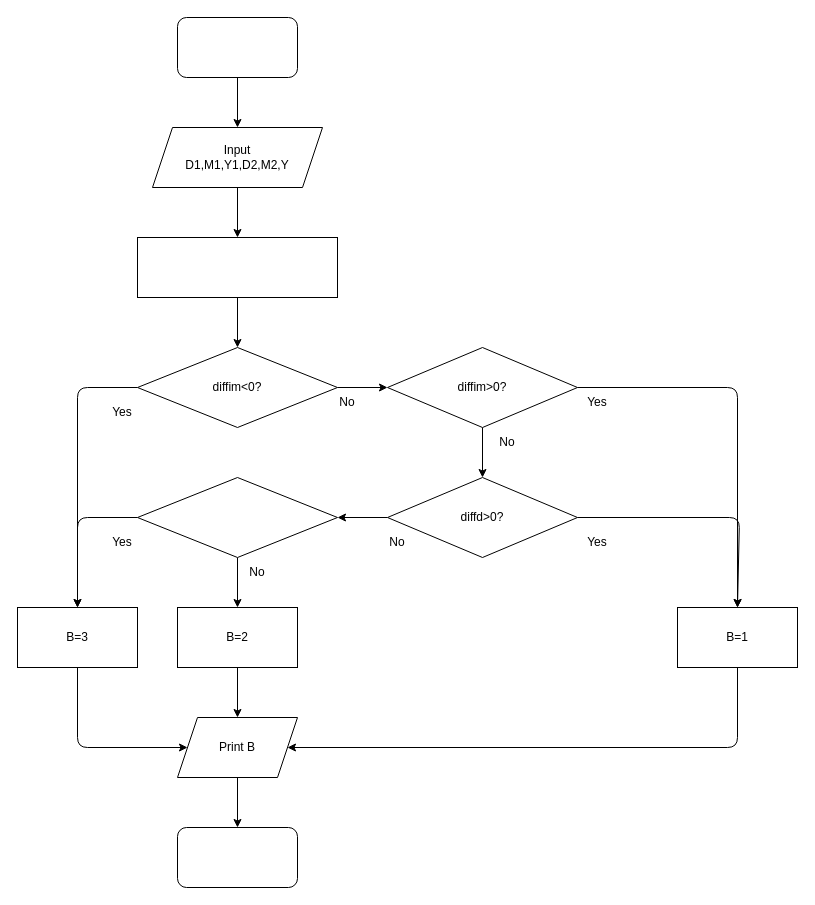
This 815x905 diagram has some shape labels left out. Here are the shapes that lost their labels. From the top down, the centre of each, then its label:
At [237,47]: "start".
At [237,267]: "diffim=M1-M2+(Y1-Y2)X12 diffid=D1-D2".
At [237,517]: "diffd<0?".
At [237,857]: "Stop".
